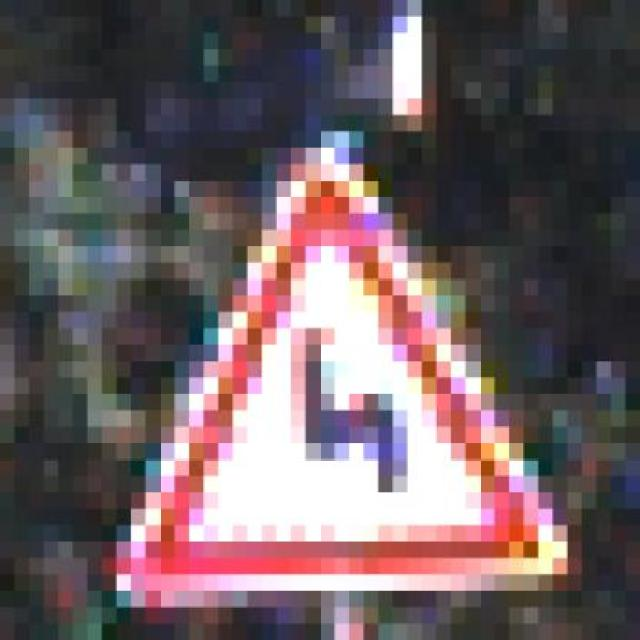Left Zig Zag Traffic: (102, 115, 568, 607)
